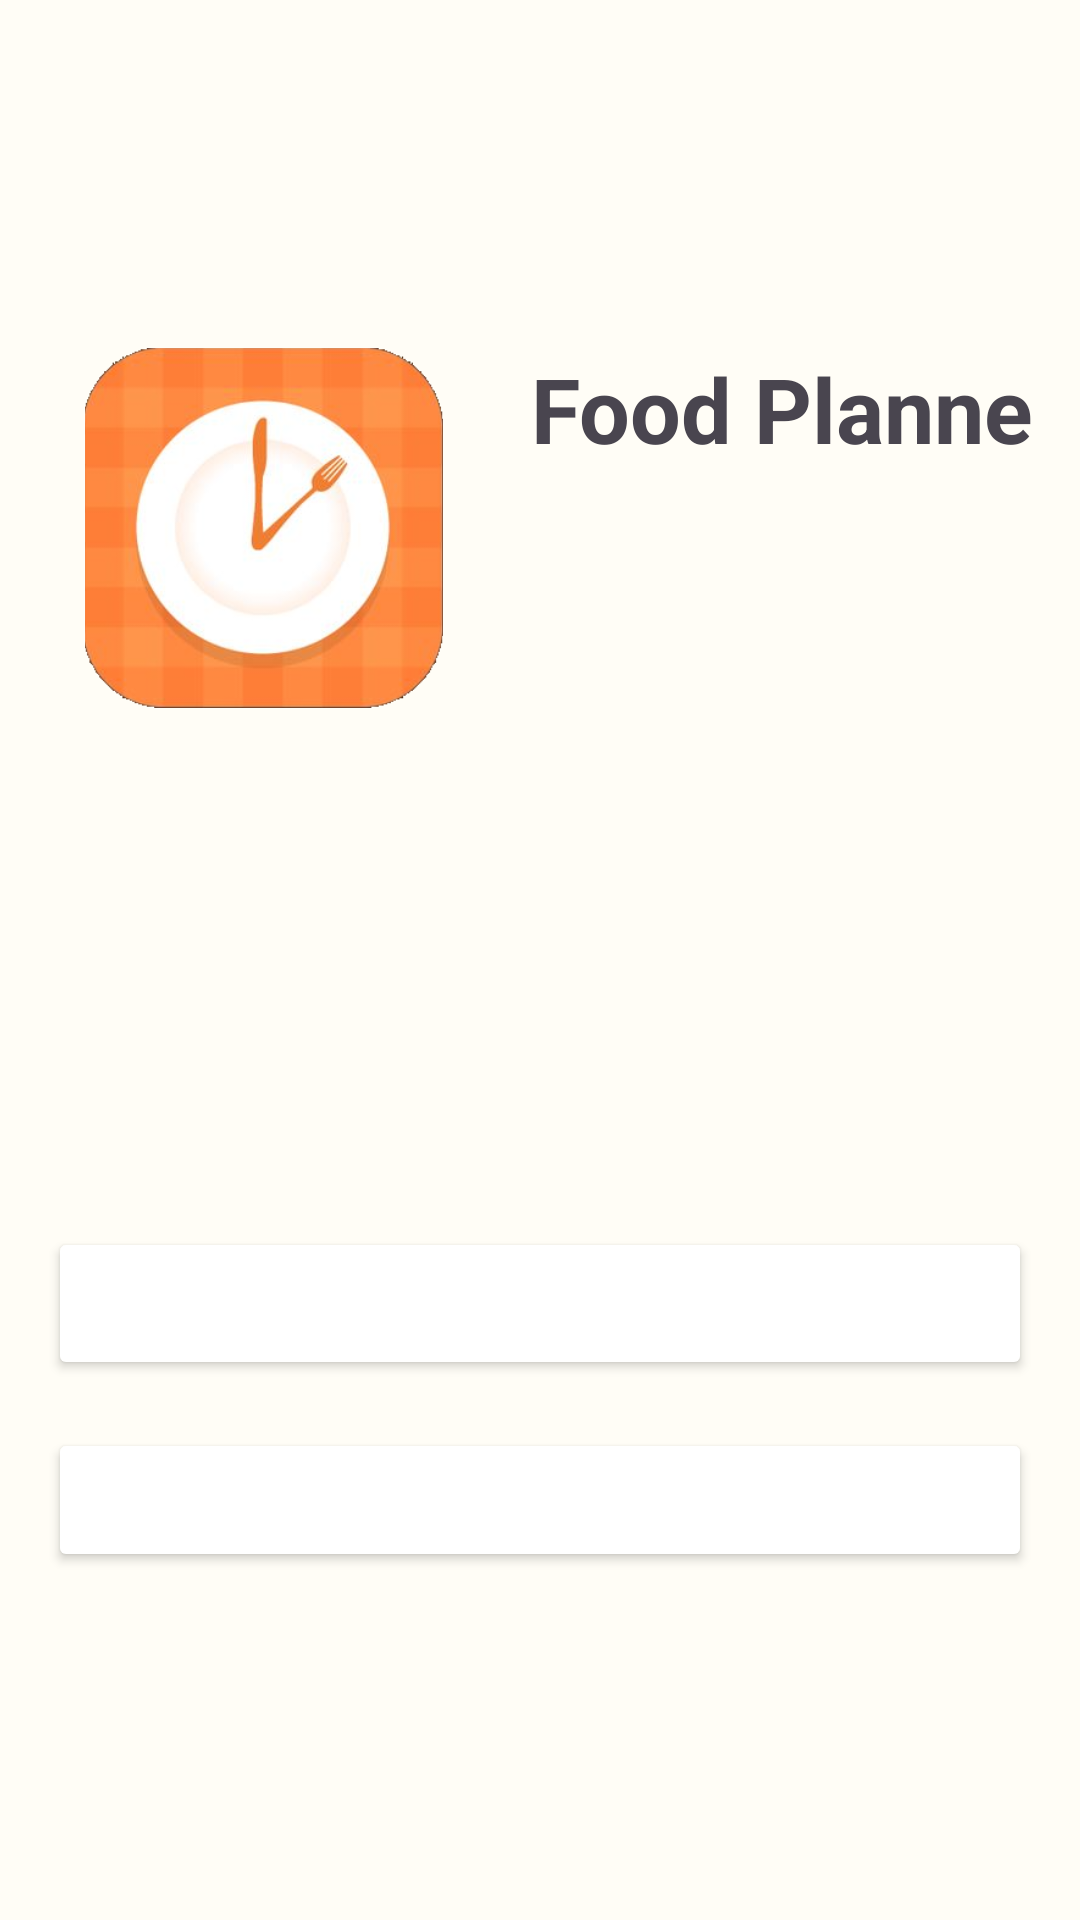

Named icons in this screenshot (1080*1920) and their centers, (x,y):
food app: (264,528)
